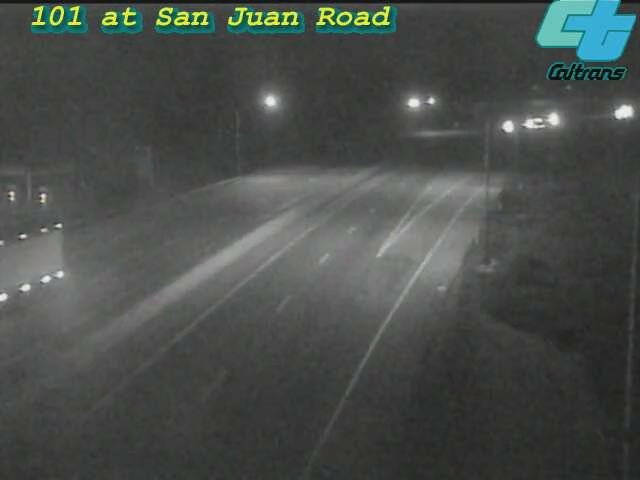vehicle: (1, 232, 50, 312), (514, 98, 564, 148), (484, 103, 534, 153), (527, 93, 577, 143), (503, 98, 553, 148), (595, 90, 640, 140), (602, 87, 640, 137)
